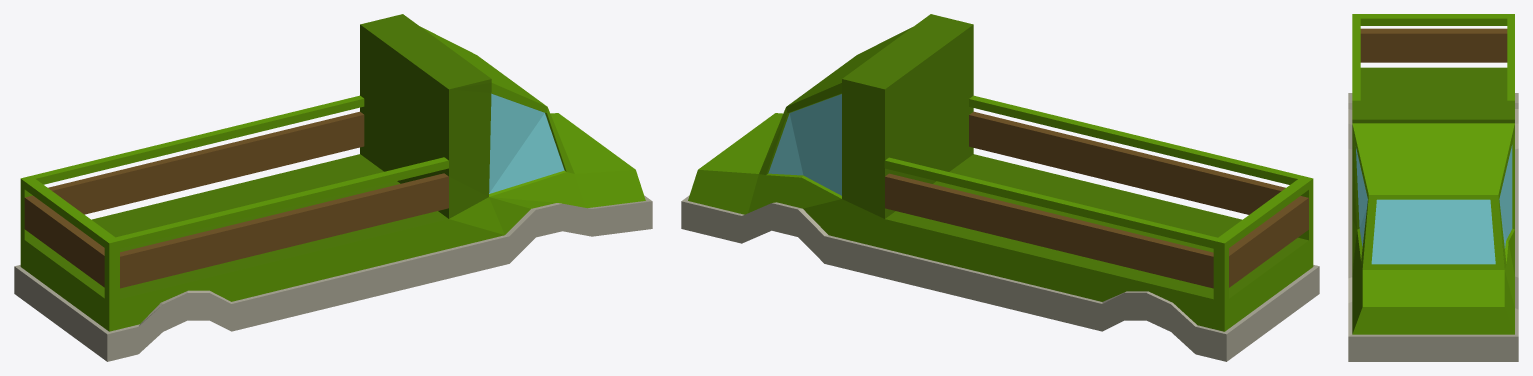
File: co_Truck.fbx
The picture shows the model from 3 angles, left to right: view 1: azimuth 30°, elevation 25°; view 2: azimuth 150°, elevation 25°; view 3: azimuth 270°, elevation 25°; orthographic projection. The views are drawn at different scales.
Parts seen in each view (by area): view 1: Truck; view 2: Truck; view 3: Truck.
Part boxes in pixels (left/top/right/bottom): Truck: left=14, top=14, right=652, bottom=361; Truck: left=681, top=14, right=1319, bottom=361; Truck: left=1348, top=14, right=1518, bottom=361.
Bounding box in the file's own units: 936 × 307 × 277.
